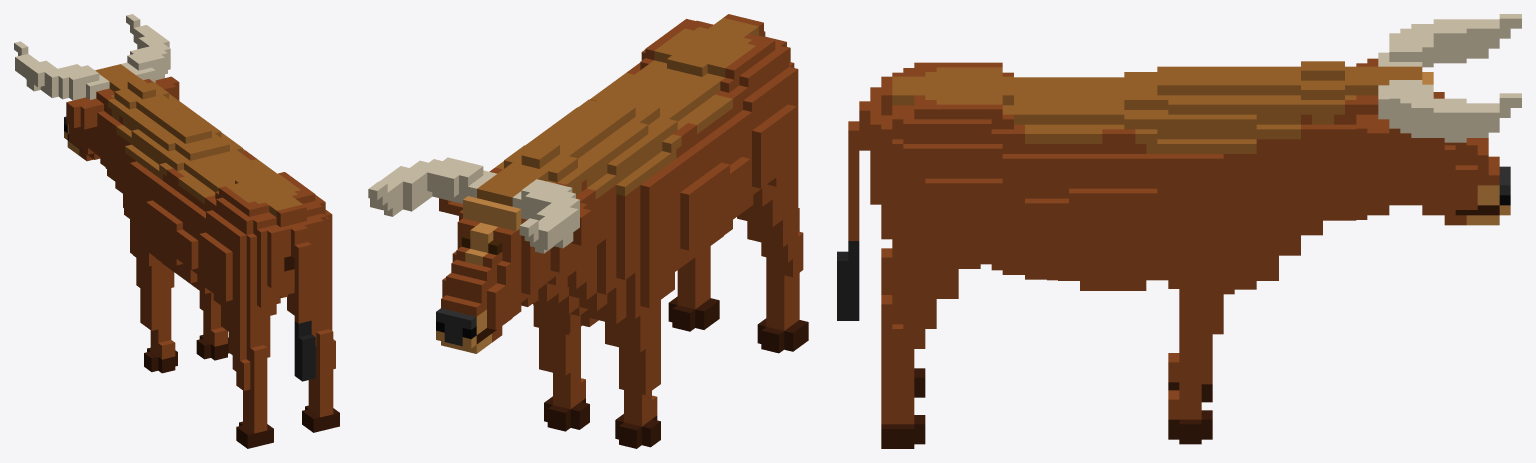
Rendered from auroch.glb.
The picture shows the model from 3 angles, left to right: view 1: azimuth 30°, elevation 25°; view 2: azimuth 150°, elevation 25°; view 3: azimuth 270°, elevation 25°; orthographic projection. The views are drawn at different scales.
Bounding box in the file's own units: 0.4 × 0.72 × 1.24.
